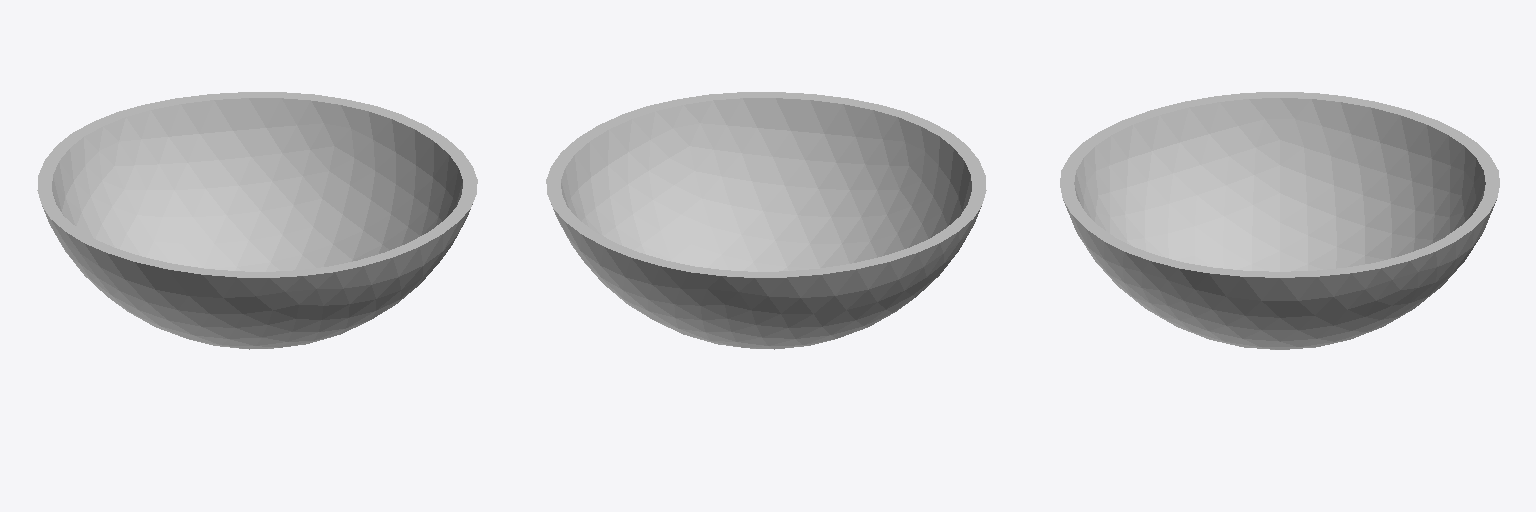
File: bowl.obj
The picture shows the model from 3 angles: view 1: azimuth 30°, elevation 25°; view 2: azimuth 150°, elevation 25°; view 3: azimuth 270°, elevation 25°; orthographic projection.
Parts seen in each view (by area): view 1: Bowl; view 2: Bowl; view 3: Bowl.
Boxes of the visible parts, <box> form: Bowl: <box>37,92,477,349</box>; Bowl: <box>546,92,986,349</box>; Bowl: <box>1060,92,1499,349</box>.
Bounding box in the file's own units: 2.06 × 0.7348 × 2.06.